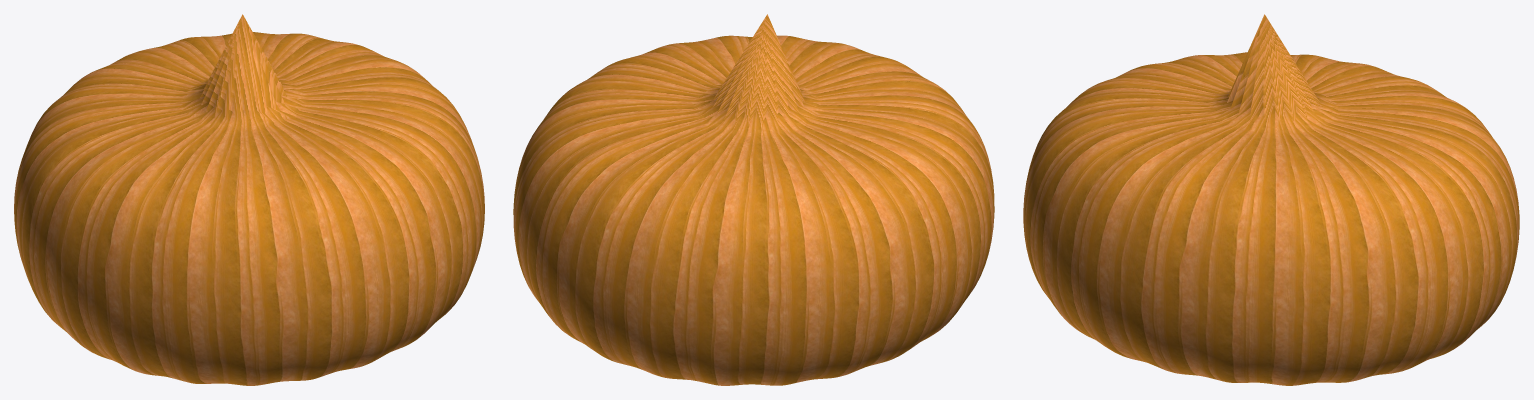
File: Resized_pumpkin.fbx
3 renders of one model, left to right at view 1: azimuth 30°, elevation 25°; view 2: azimuth 150°, elevation 25°; view 3: azimuth 270°, elevation 25°, orthographic.
Parts seen in each view (by area): view 1: pCylinder1; view 2: pCylinder1; view 3: pCylinder1.
Boxes of the visible parts, box(x1,y1,x2,y2) form: pCylinder1: box(14, 14, 484, 385); pCylinder1: box(513, 14, 994, 385); pCylinder1: box(1023, 14, 1519, 385).
Size of the model in its own units: 1.36 by 0.9828 by 1.42.
Materials: 1 (1 with a texture image).
